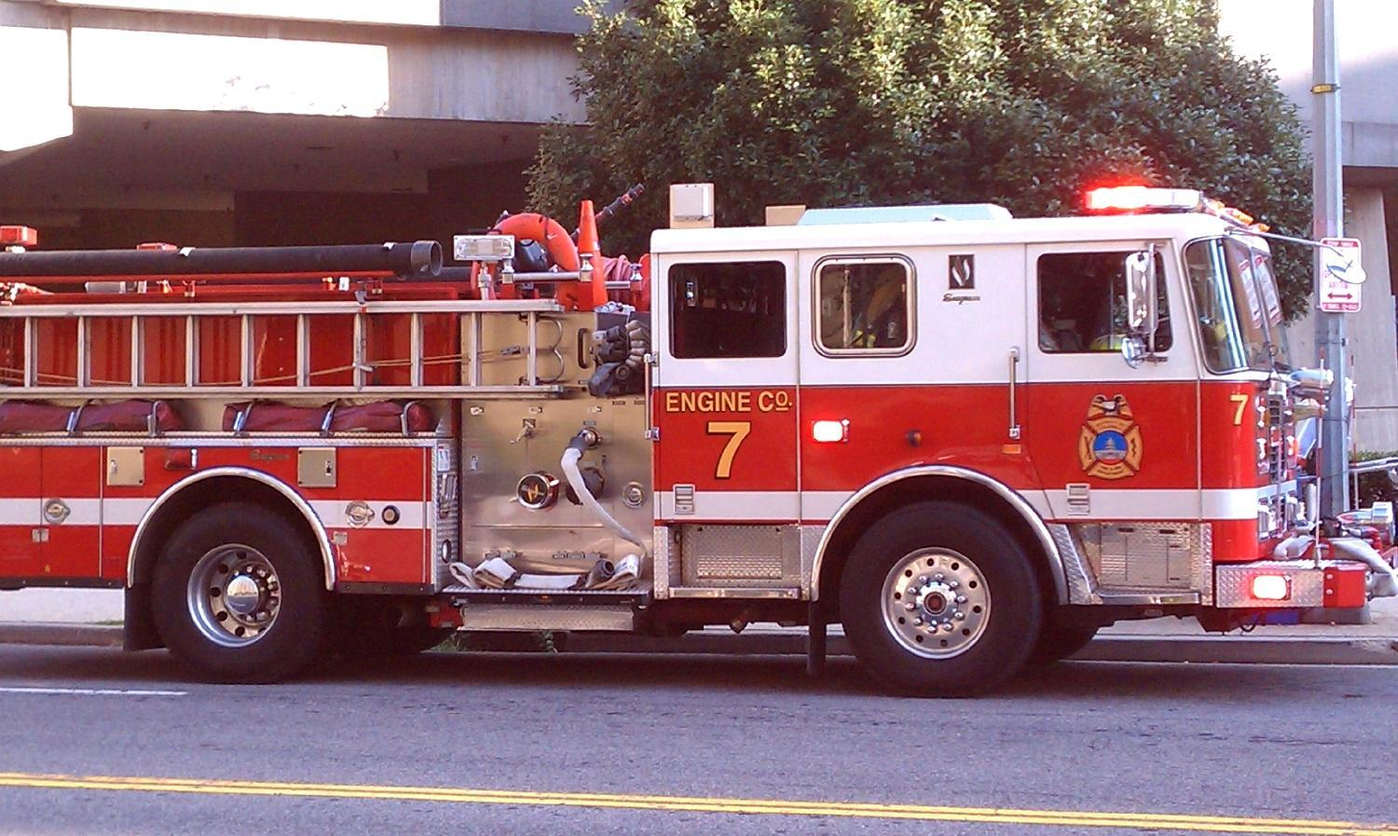Fire-engine: (0, 187, 1397, 699)
